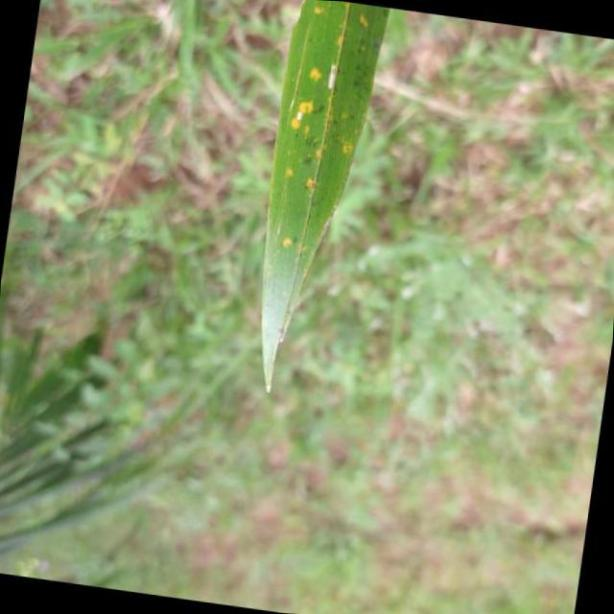Kalium: (256, 0, 390, 406)
